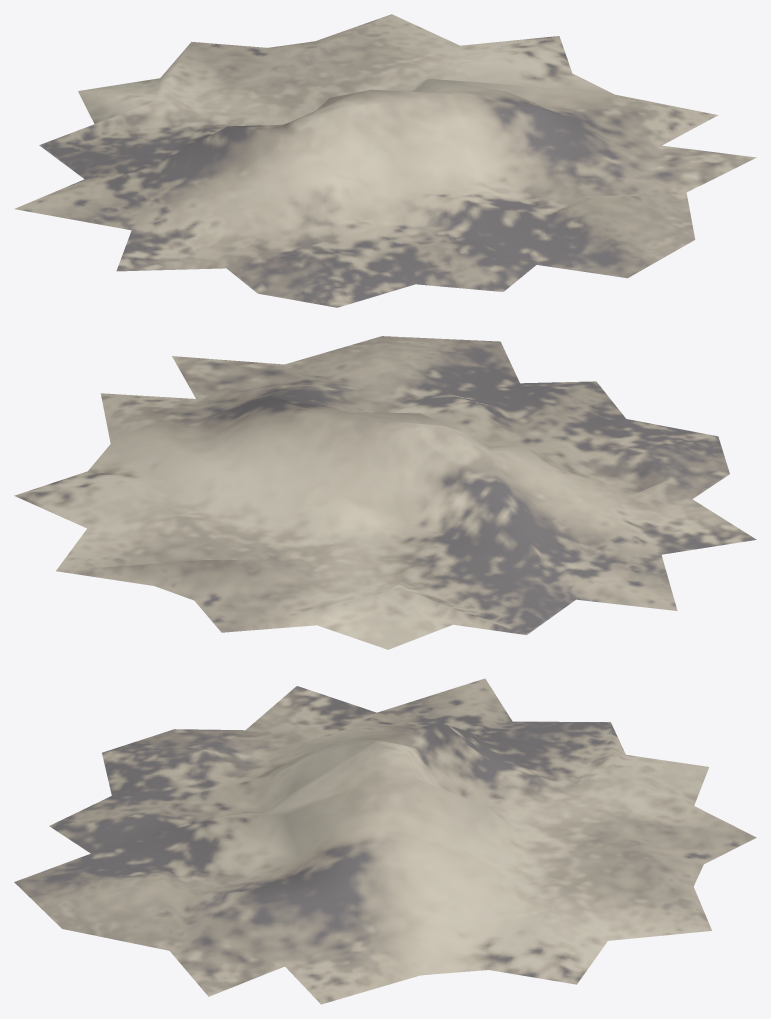
File: Land-Fill.fbx
3 renders of one model, top to bottom at view 1: azimuth 30°, elevation 25°; view 2: azimuth 150°, elevation 25°; view 3: azimuth 270°, elevation 25°, orthographic. The views are drawn at different scales.
Visible parts, largest first — view 1: Land-Fill; view 2: Land-Fill; view 3: Land-Fill.
Part boxes in pixels (box(x1,y1,x2,y2)): Land-Fill: box(14, 14, 756, 307); Land-Fill: box(14, 336, 756, 649); Land-Fill: box(14, 678, 756, 1004).
Size of the model in its own units: 13.73 by 1.54 by 13.31.
Materials: 1 (1 with a texture image).
